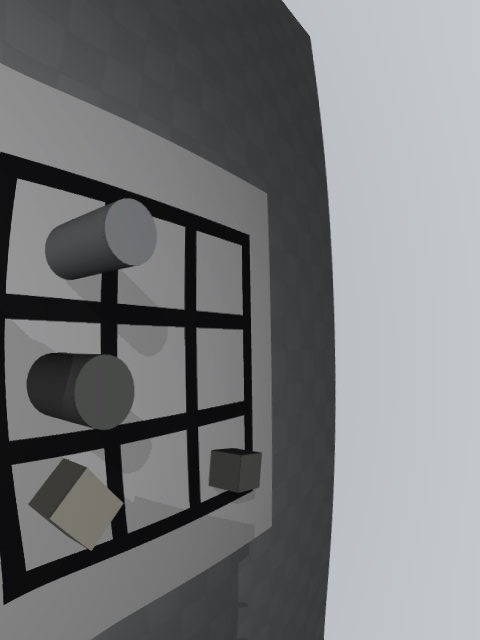can: (45, 198, 157, 280)
cube: (209, 448, 262, 493)
cylinder: (26, 353, 135, 430)
foam: (29, 458, 124, 551)
